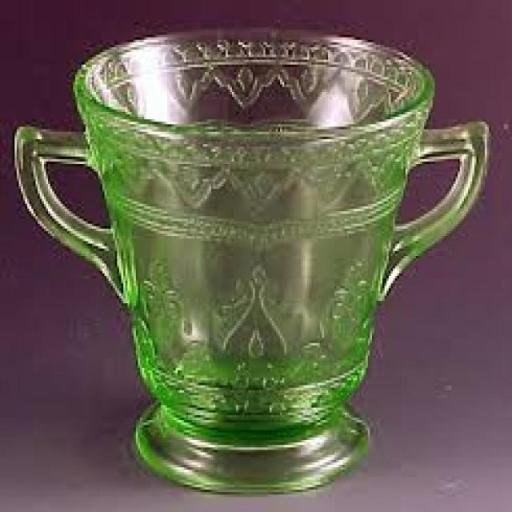glass: (2, 34, 496, 496)
